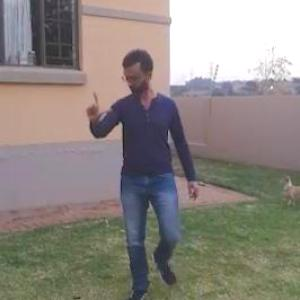land_hand: (77, 87, 118, 123)
